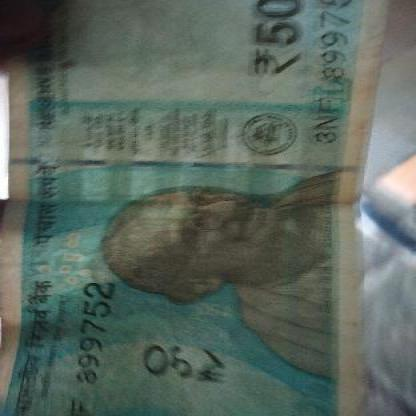New50Front: (4, 0, 365, 415)
